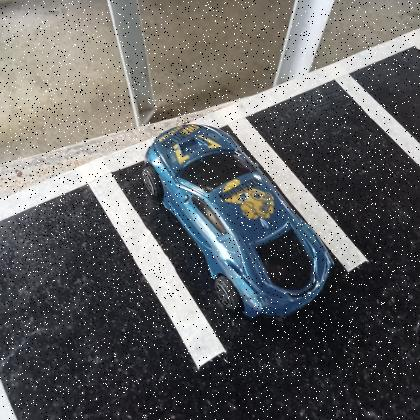Car: (142, 123, 334, 319)
